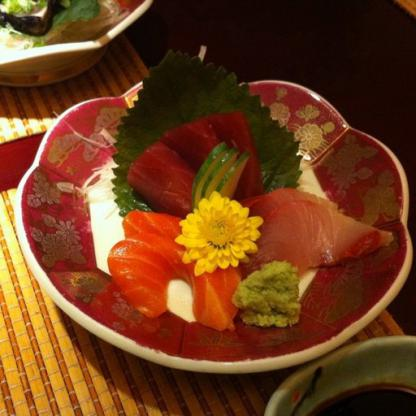salmon: (107, 202, 242, 328)
